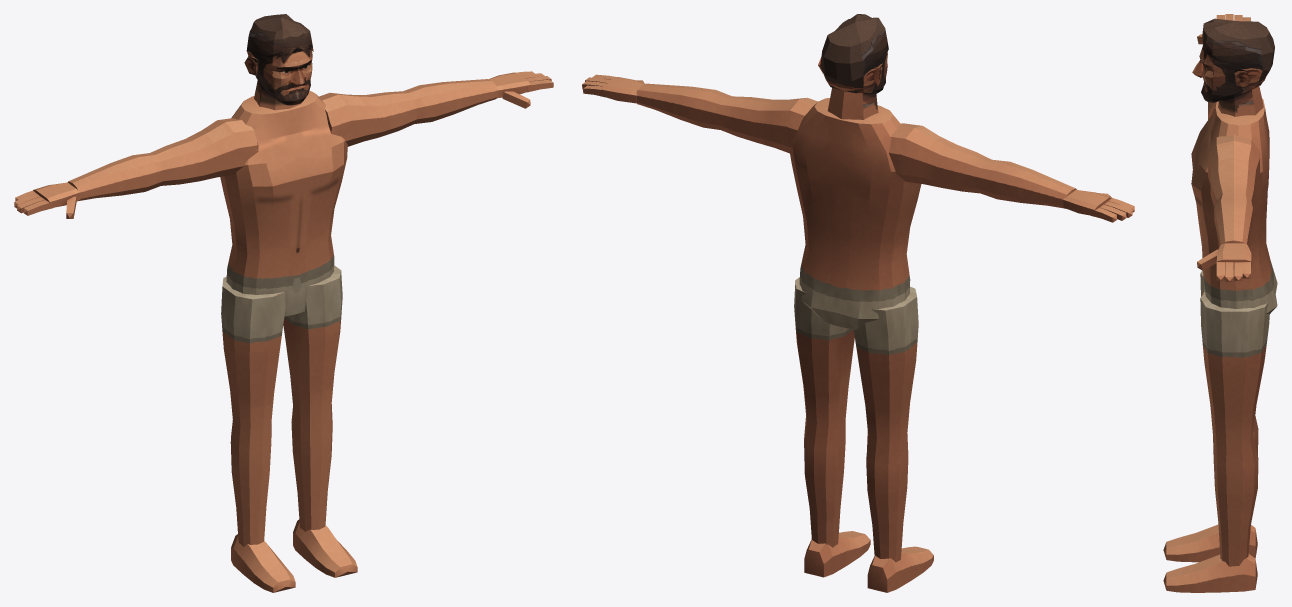
File: base_male_mixamo.fbx
3 views of the same model, side by side, from view 1: azimuth 30°, elevation 25°; view 2: azimuth 150°, elevation 25°; view 3: azimuth 270°, elevation 25° (orthographic). The views are drawn at different scales.
Visible parts, largest first — view 1: Body, Hair; view 2: Body, Hair; view 3: Body, Hair.
Part boxes in pixels (bbox=[...]): Body: bbox=[14, 49, 553, 592]; Hair: bbox=[246, 14, 313, 61]; Body: bbox=[582, 52, 1134, 592]; Hair: bbox=[820, 14, 888, 93]; Body: bbox=[1163, 14, 1277, 592]; Hair: bbox=[1202, 18, 1274, 85].
Bounding box in the file's own units: 190 × 183 × 34.57.
Materials: 1 (1 with a texture image).
